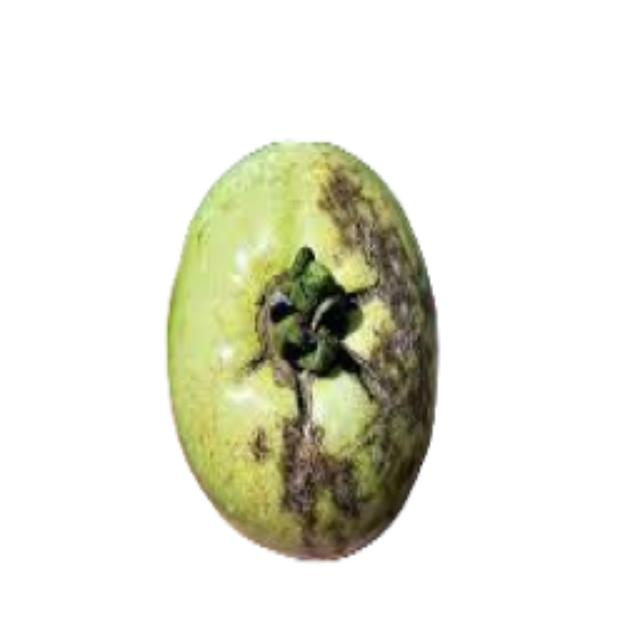defect: (161, 133, 448, 562)
